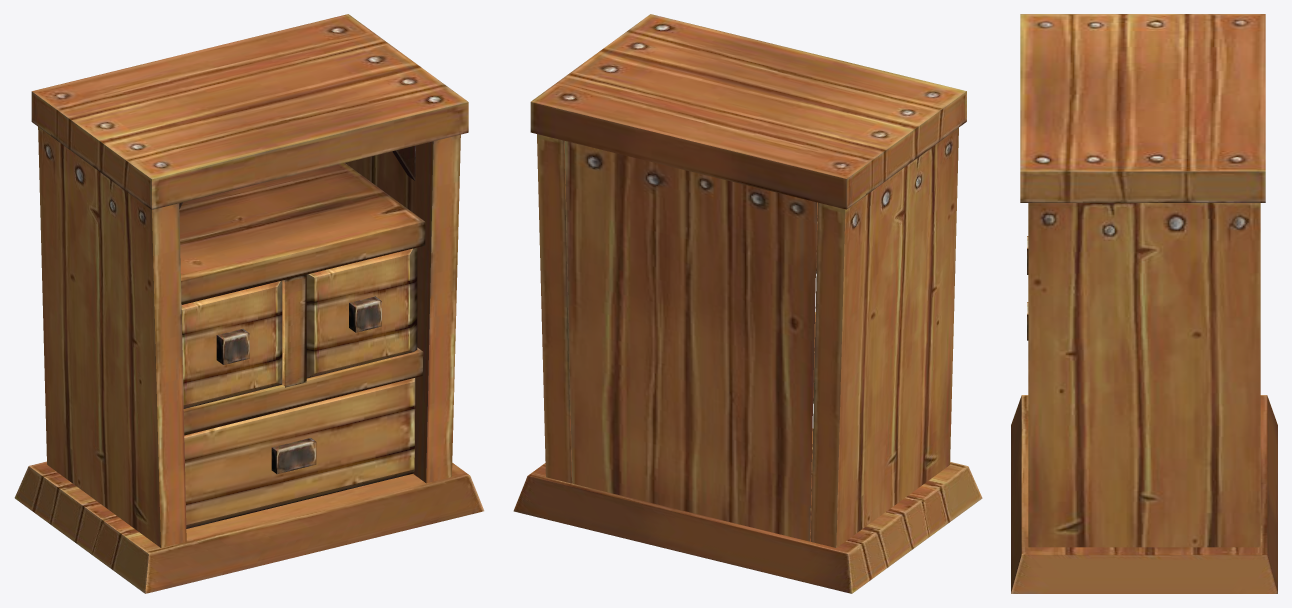
File: SM_cupboardsmall_01.gltf
The picture shows the model from 3 angles, left to right: view 1: azimuth 30°, elevation 25°; view 2: azimuth 150°, elevation 25°; view 3: azimuth 270°, elevation 25°; orthographic projection. The views are drawn at different scales.
Visible parts, largest first — view 1: SM_cupboardsmall_01; view 2: SM_cupboardsmall_01; view 3: SM_cupboardsmall_01.
Boxes of the visible parts, x1=… form: SM_cupboardsmall_01: x1=14, y1=14, x2=484, y2=593; SM_cupboardsmall_01: x1=513, y1=14, x2=982, y2=593; SM_cupboardsmall_01: x1=1011, y1=14, x2=1277, y2=593.
Size of the model in its own units: 0.9993 by 1.15 by 0.6677.
Materials: 1 (1 with a texture image).
